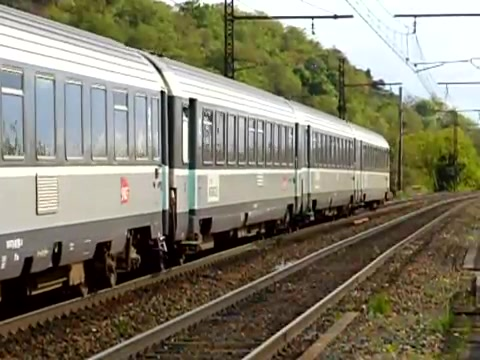train: (1, 2, 393, 311)
